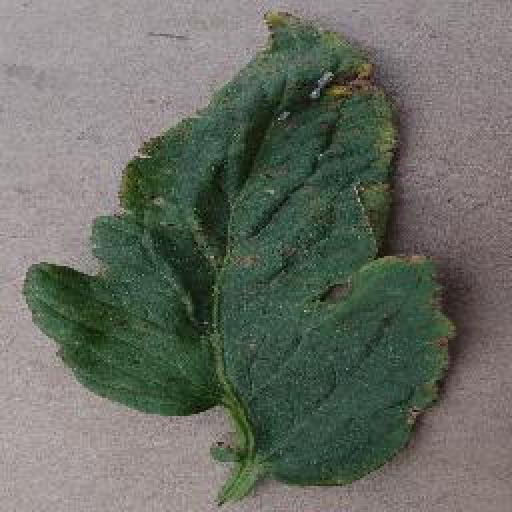Bacterial Spot: (20, 8, 457, 491)
